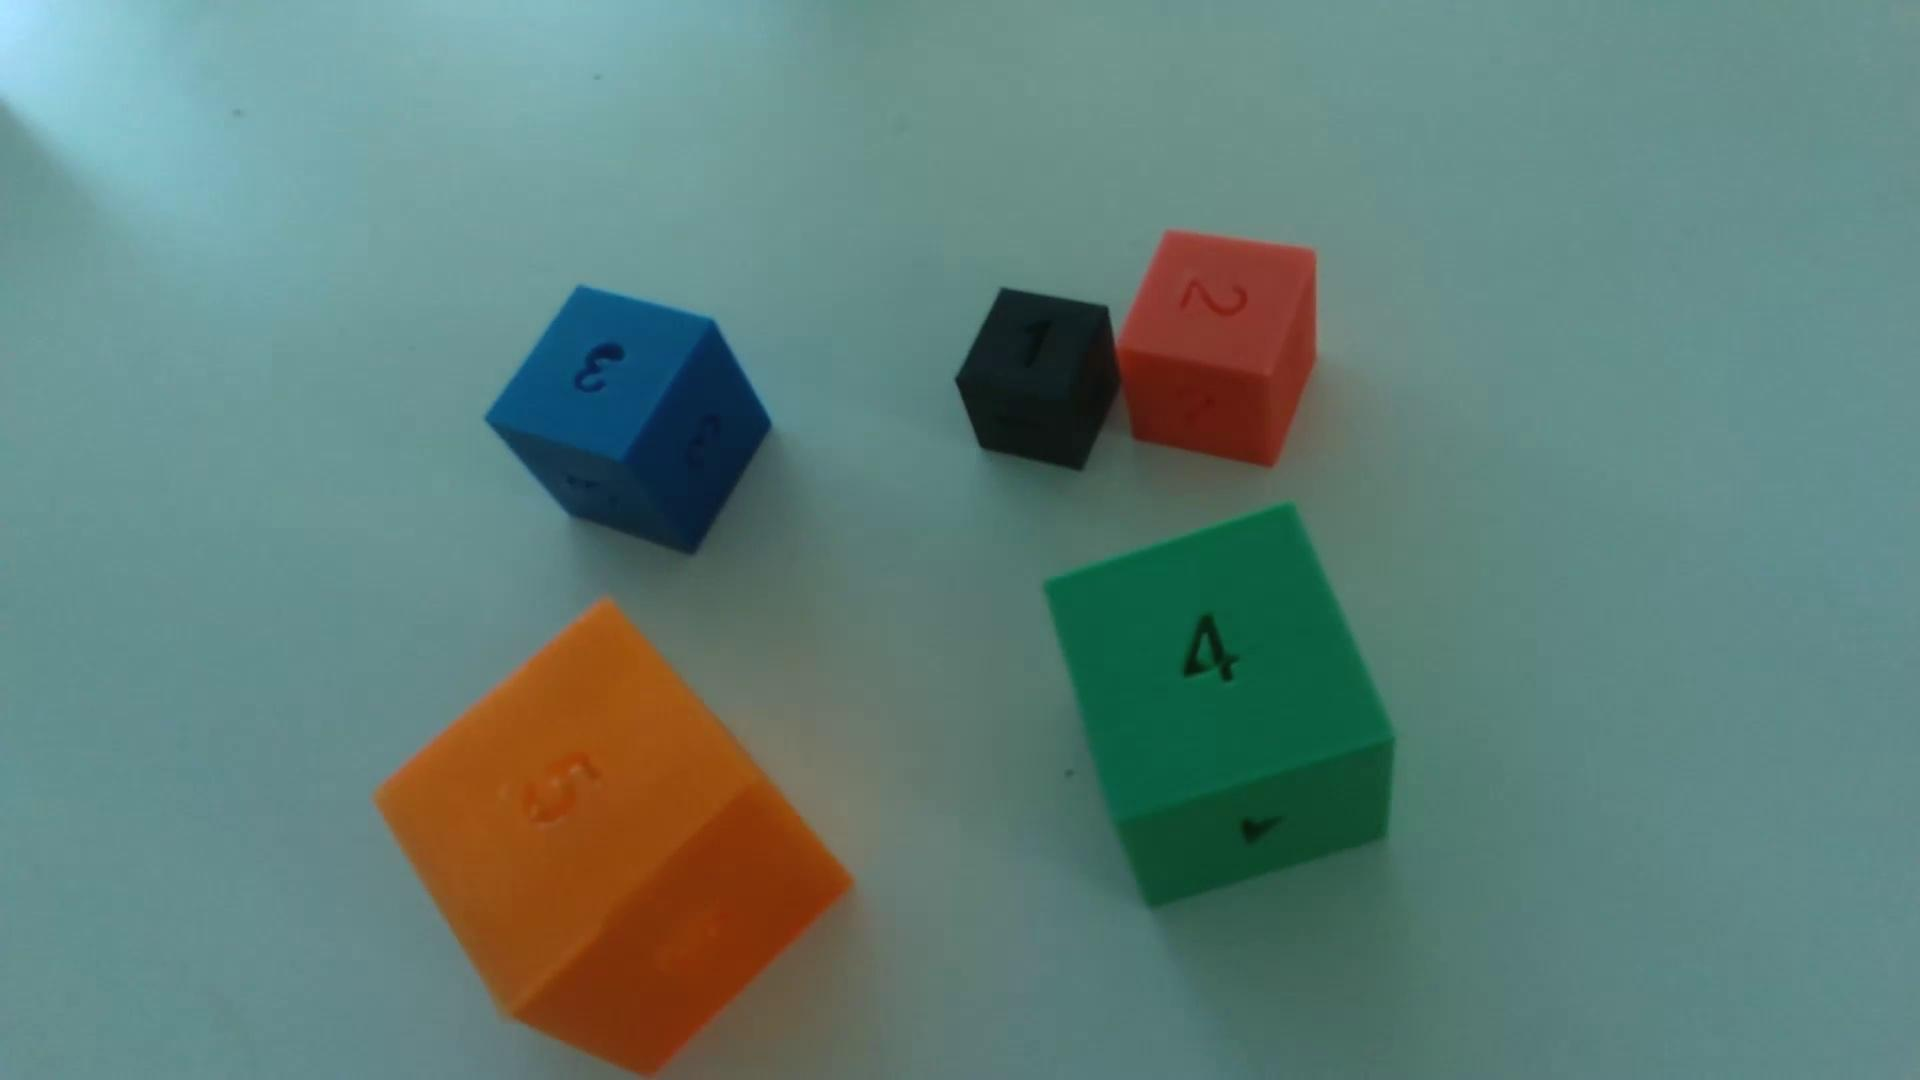black: (955, 289, 1120, 471)
blue: (487, 287, 771, 555)
green: (1046, 506, 1394, 905)
orange: (376, 603, 851, 1076)
red: (1117, 231, 1317, 467)
